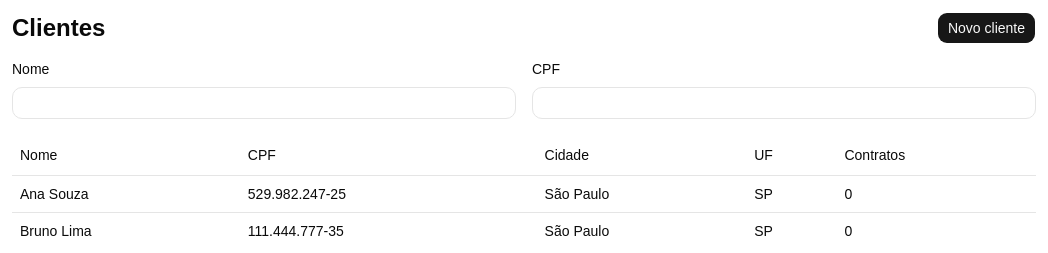
telas de clientes › lista › digitar no filtro de nome refaz a busca
Check: the link "Ana Souza" is shown, box [20,186,88,202]
Type "Bruno" into the field labelled "Nome" at (264, 103), box [12,87,516,119]
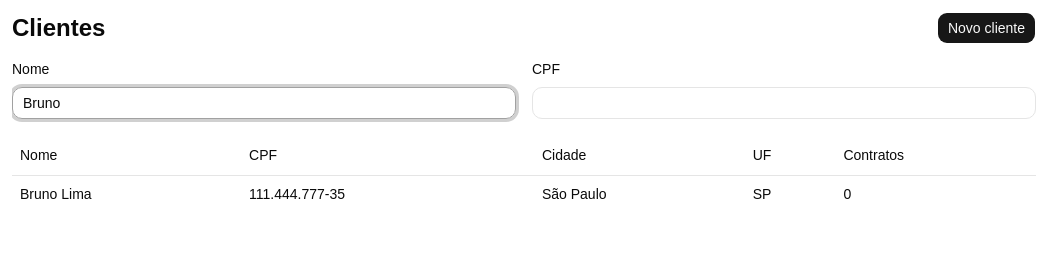
Check: the link "Bruno Lima" is shown, box [20,186,92,202]
Check: the link "Ana Souza" is gone
